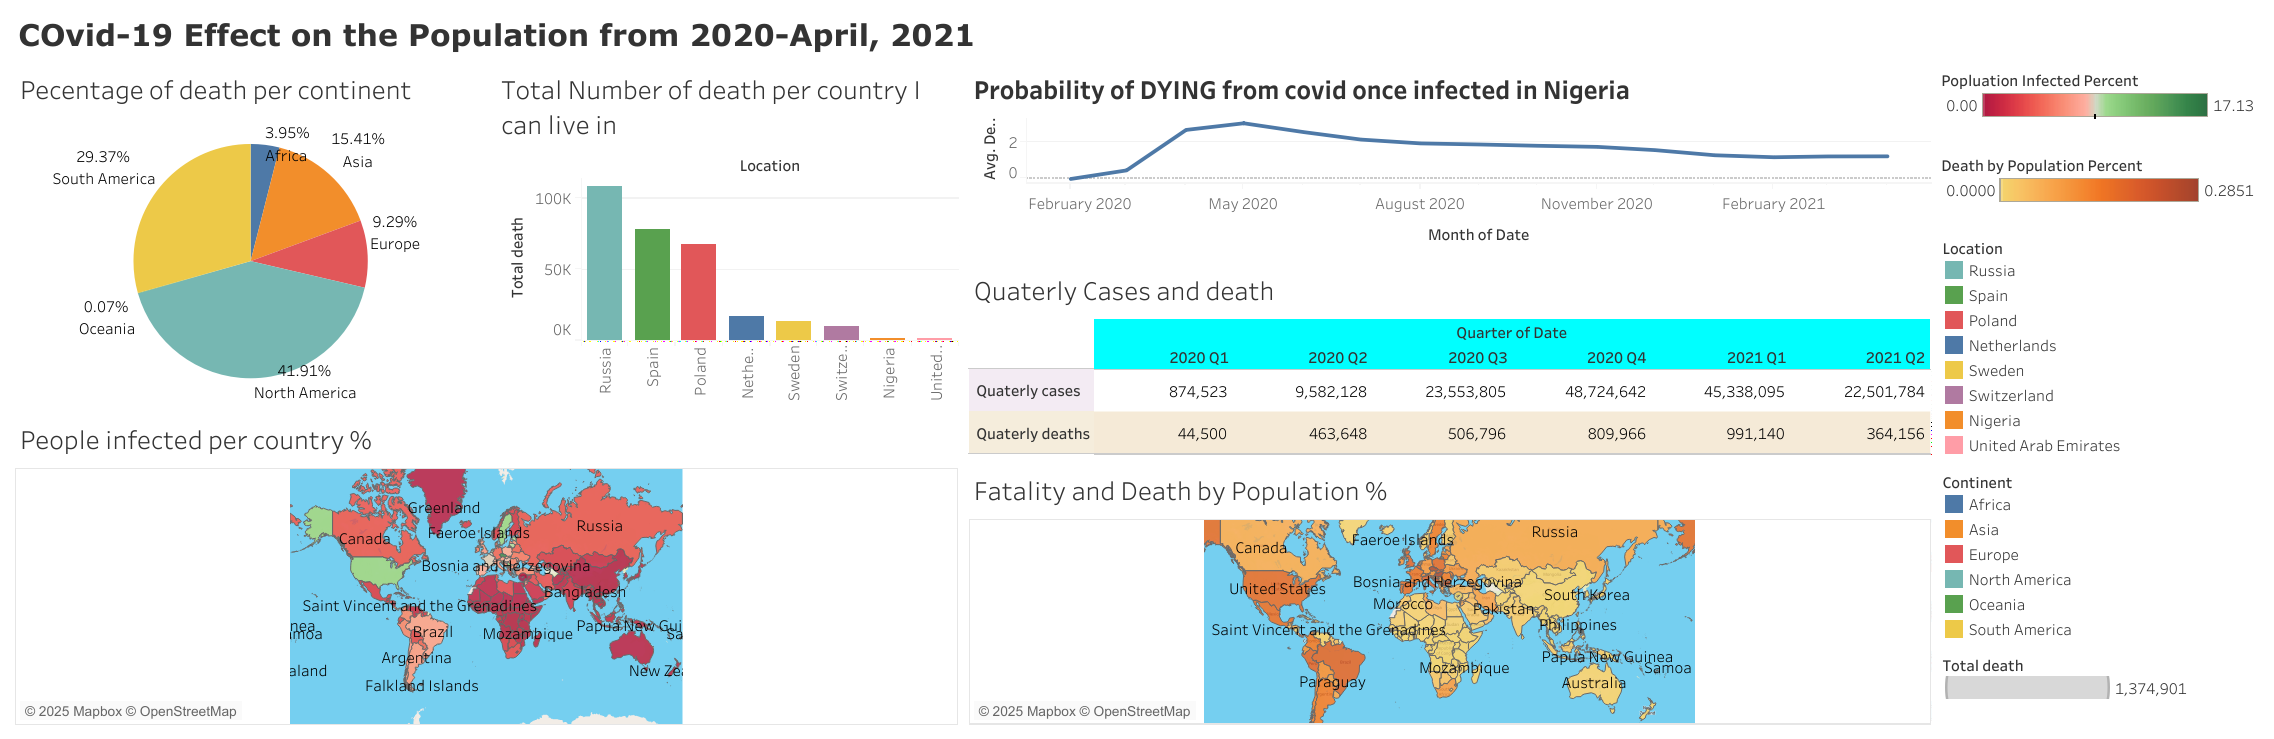

The dashboard page shown, as its layout file describes it:
{"tool":"tableau","page":{"name":"Dashboard 1","canvas":[1000,1000],"units":"permille","ordinal":0},"visuals":[{"type":"title","box":[4.4,10.1,991.2,56.9]},{"type":"worksheet","title":"Sheet 5","mark":"Pie","box":[4.4,67,211.7,481.1]},{"type":"worksheet","title":"Sheet 4","mark":"Automatic","rows":["Total_death"],"cols":["Location"],"box":[216.1,67,207.7,481.1]},{"type":"worksheet","title":"Sheet 1","mark":"Automatic","rows":["DeathPercentage"],"cols":["date"],"box":[423.8,67,427.3,276.3]},{"type":"legend","title":"Sheet 2","param":"[federated.1j6erar1ommhxm153llu0165bzwn].[sum:popluationInfectedPercent:qk]","box":[851.1,67,144.5,92.3]},{"type":"legend","title":"Sheet 3","param":"[federated.1lxo8vp0iootbq14c4v971rk09by].[sum:FatilitybyPopulationPercent:qk]","box":[851.1,159.3,144.5,92.3]},{"type":"legend","title":"Sheet 4","param":"[federated.1obnk781p4c7ns13o81b20teeuyh].[none:Location:nk]","box":[851.1,251.6,144.5,250.3]},{"type":"worksheet","title":"Sheet 6","mark":"Automatic","cols":["date"],"box":[423.8,343.3,427.3,276.3]},{"type":"legend","title":"Sheet 5","param":"[federated.0gx9w6016ta2cv1dxngd10jyuoe9].[none:Continent:nk]","box":[851.1,501.9,144.5,197.2]},{"type":"worksheet","title":"Sheet 2","mark":"Automatic","box":[4.4,548.1,419.4,441.8]},{"type":"worksheet","title":"Sheet 3","mark":"Automatic","box":[423.8,619.5,427.3,370.4]},{"type":"legend","title":"Sheet 5","param":"[federated.0gx9w6016ta2cv1dxngd10jyuoe9].[sum:Total_death:qk]","box":[851.1,699.1,144.5,64.5]}]}

Visuals, with their boxes on the dashboard's canvas, which has no fixed pixel size, in thousandths of its width and height (x1, y1, x2, y2). These are canvas units, not pixel positions in the 2274x739 screenshot, which may show the page scaled, cropped or inside an application window:
title: region(4, 10, 996, 67)
"Sheet 5" worksheet (Pie marks): region(4, 67, 216, 548)
"Sheet 4" worksheet: region(216, 67, 424, 548)
"Sheet 1" worksheet: region(424, 67, 851, 343)
"Sheet 2" legend: region(851, 67, 996, 159)
"Sheet 3" legend: region(851, 159, 996, 252)
"Sheet 4" legend: region(851, 252, 996, 502)
"Sheet 6" worksheet: region(424, 343, 851, 620)
"Sheet 5" legend: region(851, 502, 996, 699)
"Sheet 2" worksheet: region(4, 548, 424, 990)
"Sheet 3" worksheet: region(424, 620, 851, 990)
"Sheet 5" legend: region(851, 699, 996, 764)
